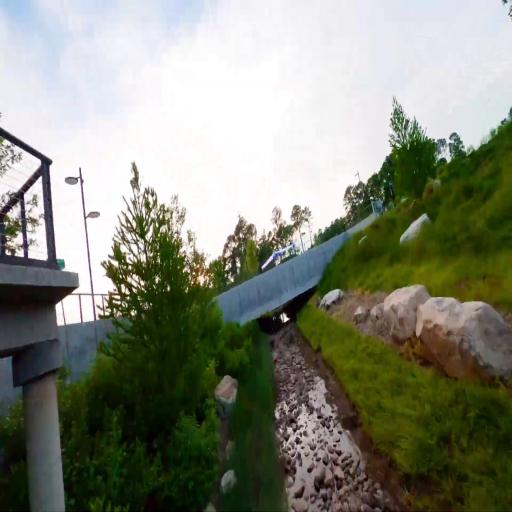uav: (258, 239, 298, 277)
